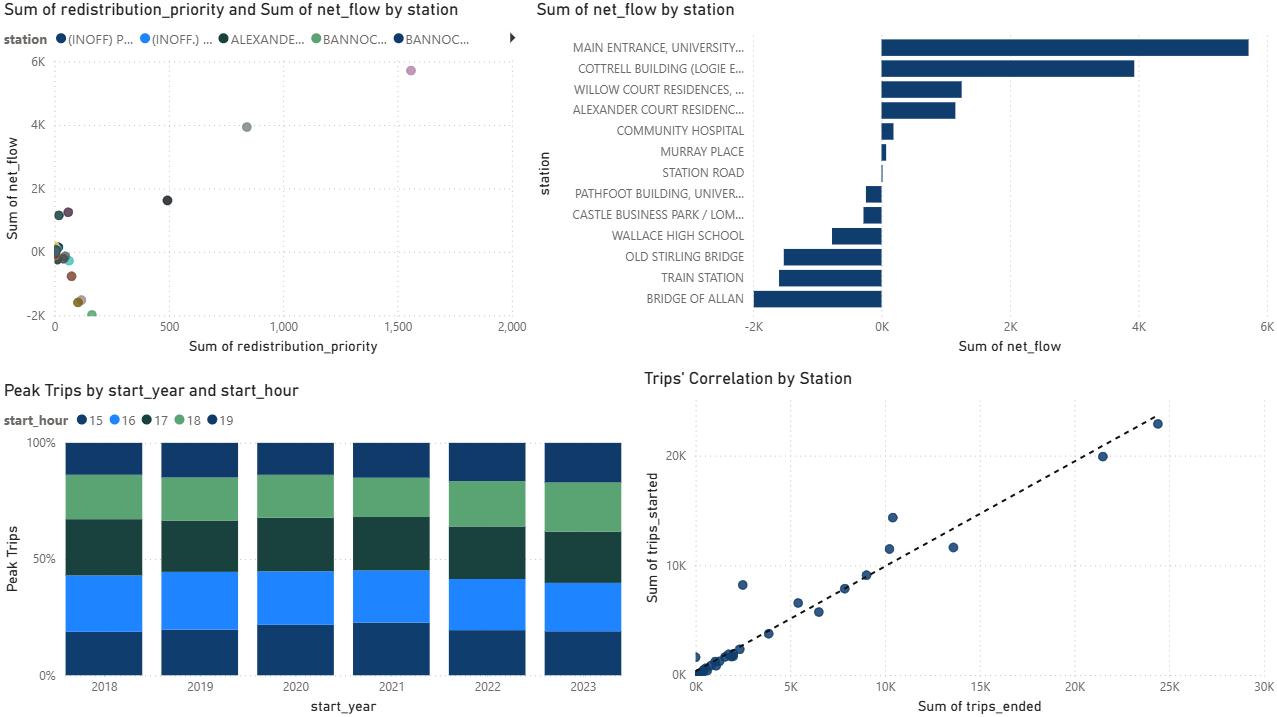

This screenshot's page, from the dashboard's own definition file:
{"tool":"powerbi","page":{"name":"Stations' Inflow/Outflow","canvas":[1280,720],"ordinal":1},"visuals":[{"type":"scatterChart","title":"Trips'' Correlation by Station","fields":{"Category":["dim_station.station"],"Y":["Sum(nextbike_behavioural_interventions.trips_started)"],"X":["Sum(nextbike_behavioural_interventions.trips_ended)"]},"box":[640,368.8,640,351.2],"z":0},{"type":"clusteredBarChart","fields":{"Category":["dim_station.station"],"Y":["Sum(nextbike_behavioural_interventions.net_flow)"]},"box":[532.5,0,747.5,360],"z":1000},{"type":"hundredPercentStackedColumnChart","fields":{"Category":["Next bike Stirling 2018 - 2023.start_year"],"Y":["Next bike Stirling 2018 - 2023.Peak Trips"],"Series":["Next bike Stirling 2018 - 2023.start_hour"]},"box":[0,381.2,627.5,338.8],"z":2000},{"type":"scatterChart","fields":{"X":["Sum(nextbike_behavioural_interventions.redistribution_priority)"],"Y":["Sum(nextbike_behavioural_interventions.net_flow)"],"Series":["dim_station.station"]},"box":[0,0,533,360],"z":3000}]}

Visuals, with their boxes in screenshot pixels (x1, y1, x2, y2), scaled from the page's 1280x720 canvas onto the 1277x717 screenshot:
"Trips'' Correlation by Station" scatterChart: bbox(638, 367, 1276, 716)
clusteredBarChart - dim_station.station x Sum(nextbike_behavioural_interventions.net_flow): bbox(531, 0, 1276, 358)
hundredPercentStackedColumnChart - Next bike Stirling 2018 - 2023.start_year x Next bike Stirling 2018 - 2023.Peak Trips: bbox(0, 380, 626, 716)
scatterChart - Sum(nextbike_behavioural_interventions.redistribution_priority) x Sum(nextbike_behavioural_interventions.net_flow): bbox(0, 0, 532, 358)
